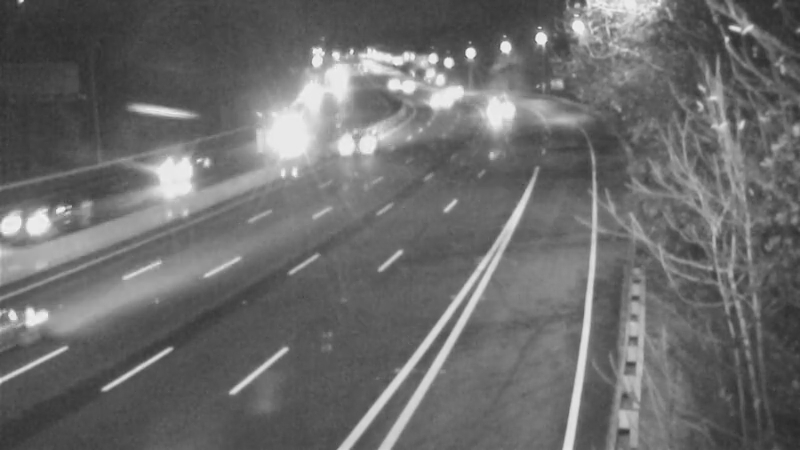vehicle: (145, 128, 225, 208), (1, 186, 79, 266), (381, 58, 431, 108), (413, 73, 463, 123), (469, 82, 519, 132), (334, 116, 384, 166), (263, 105, 313, 155)
